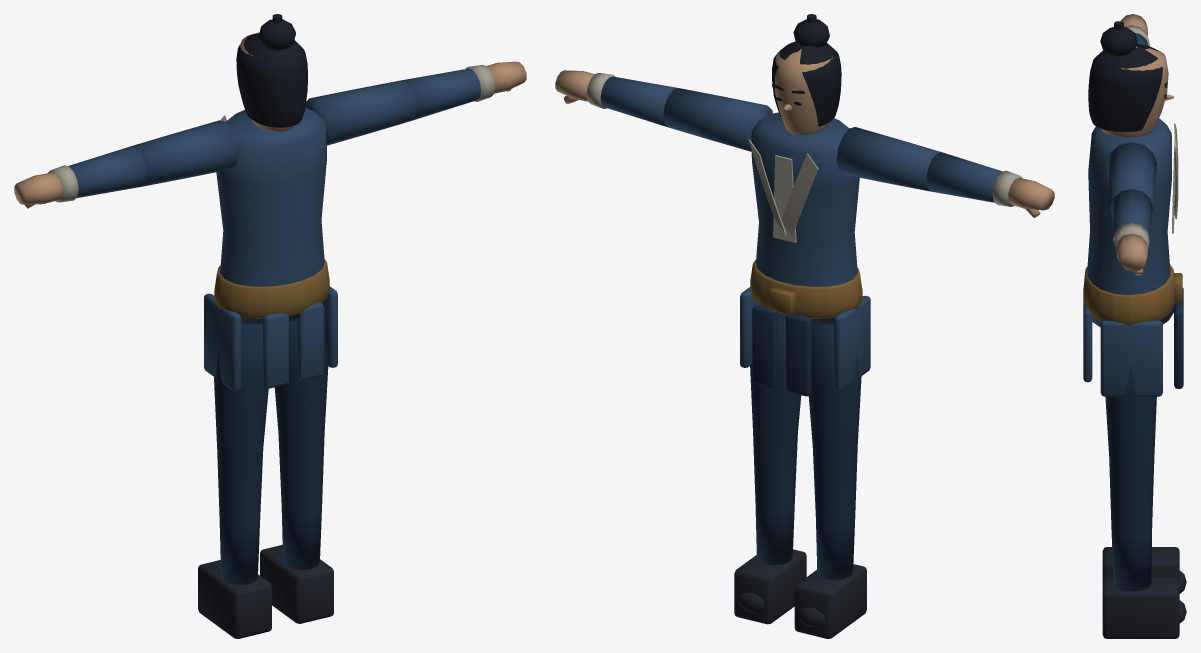
Rendered from cultivator_shortcoat_v1.glb.
3 renders of one model, left to right at view 1: azimuth 30°, elevation 25°; view 2: azimuth 150°, elevation 25°; view 3: azimuth 270°, elevation 25°, orthographic. The views are drawn at different scales.
Visible parts, largest first — view 1: Shortcoat_Torso, Trouser_R, Trouser_L, Fitted_Sleeve_R, Fitted_Sleeve_L, Hair_Cap, Foot_R, Foot_L, Short_Sash, Short_Panel_Right, Short_Panel_Back_L, Short_Panel_Back_R (+4 smaller); view 2: Shortcoat_Torso, Trouser_R, Trouser_L, Fitted_Sleeve_R, Fitted_Sleeve_L, Foot_R, Foot_L, Short_Sash, Hair_Cap, Short_Panel_Right, Head, Short_Panel_Front_R (+7 smaller); view 3: Trouser_L, Shortcoat_Torso, Hair_Cap, Short_Panel_Left, Foot_L, Fitted_Sleeve_L, Short_Sash, Foot_R, Head, Hand_L, Hair_Bun, Short_Panel_Front_L (+5 smaller).
Part boxes in pixels (x1=…): Shortcoat_Torso: x1=216, y1=107, x2=327, y2=324; Trouser_R: x1=214, y1=323, x2=268, y2=584; Trouser_L: x1=274, y1=307, x2=328, y2=569; Fitted_Sleeve_R: x1=68, y1=120, x2=238, y2=198; Fitted_Sleeve_L: x1=305, y1=68, x2=480, y2=145; Hair_Cap: x1=236, y1=33, x2=307, y2=127; Foot_R: x1=198, y1=560, x2=271, y2=638; Foot_L: x1=260, y1=545, x2=333, y2=623; Short_Sash: x1=214, y1=259, x2=329, y2=318; Short_Panel_Right: x1=204, y1=293, x2=241, y2=391; Short_Panel_Back_L: x1=297, y1=302, x2=323, y2=380; Short_Panel_Back_R: x1=263, y1=313, x2=288, y2=388; Shortcoat_Torso: x1=751, y1=112, x2=859, y2=324; Trouser_R: x1=808, y1=323, x2=861, y2=579; Trouser_L: x1=750, y1=318, x2=801, y2=565; Fitted_Sleeve_R: x1=836, y1=127, x2=1002, y2=202; Fitted_Sleeve_L: x1=600, y1=76, x2=772, y2=151; Foot_R: x1=794, y1=564, x2=866, y2=638; Foot_L: x1=734, y1=549, x2=806, y2=624; Short_Sash: x1=750, y1=260, x2=862, y2=318; Hair_Cap: x1=771, y1=41, x2=841, y2=126; Short_Panel_Right: x1=834, y1=295, x2=870, y2=390; Head: x1=775, y1=49, x2=832, y2=134; Short_Panel_Front_R: x1=786, y1=313, x2=811, y2=396; Trouser_L: x1=1105, y1=365, x2=1156, y2=591; Shortcoat_Torso: x1=1087, y1=118, x2=1173, y2=327; Hair_Cap: x1=1088, y1=43, x2=1162, y2=131; Short_Panel_Left: x1=1100, y1=320, x2=1162, y2=396; Foot_L: x1=1102, y1=576, x2=1186, y2=638; Fitted_Sleeve_L: x1=1106, y1=142, x2=1156, y2=234; Short_Sash: x1=1083, y1=264, x2=1182, y2=325; Foot_R: x1=1102, y1=547, x2=1186, y2=593; Head: x1=1100, y1=46, x2=1168, y2=137; Hand_L: x1=1117, y1=233, x2=1147, y2=275; Hair_Bun: x1=1100, y1=21, x2=1137, y2=55; Short_Panel_Front_L: x1=1174, y1=303, x2=1183, y2=388.
Bounding box in the file's own units: 1.52 × 1.77 × 0.2792.
